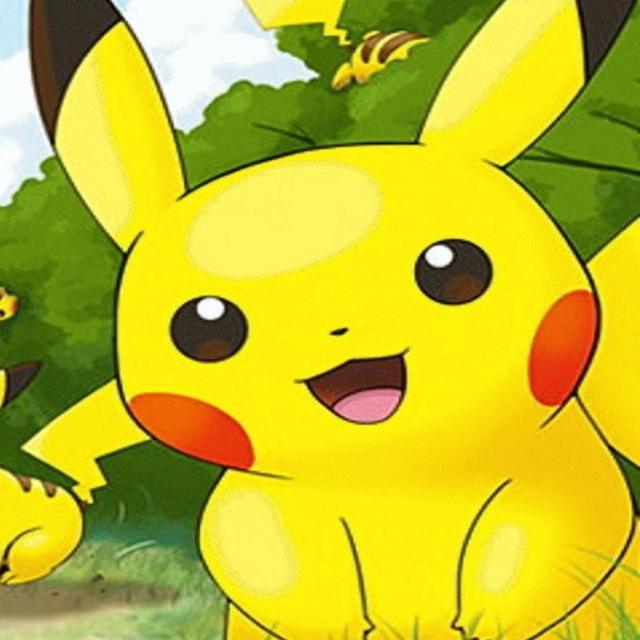pikachu: (32, 2, 640, 640), (0, 379, 153, 596)
